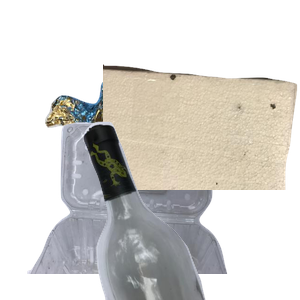glass: (81, 120, 300, 300)
metal: (42, 72, 239, 229)
plastic: (25, 120, 245, 300)
trash: (103, 62, 300, 242)
